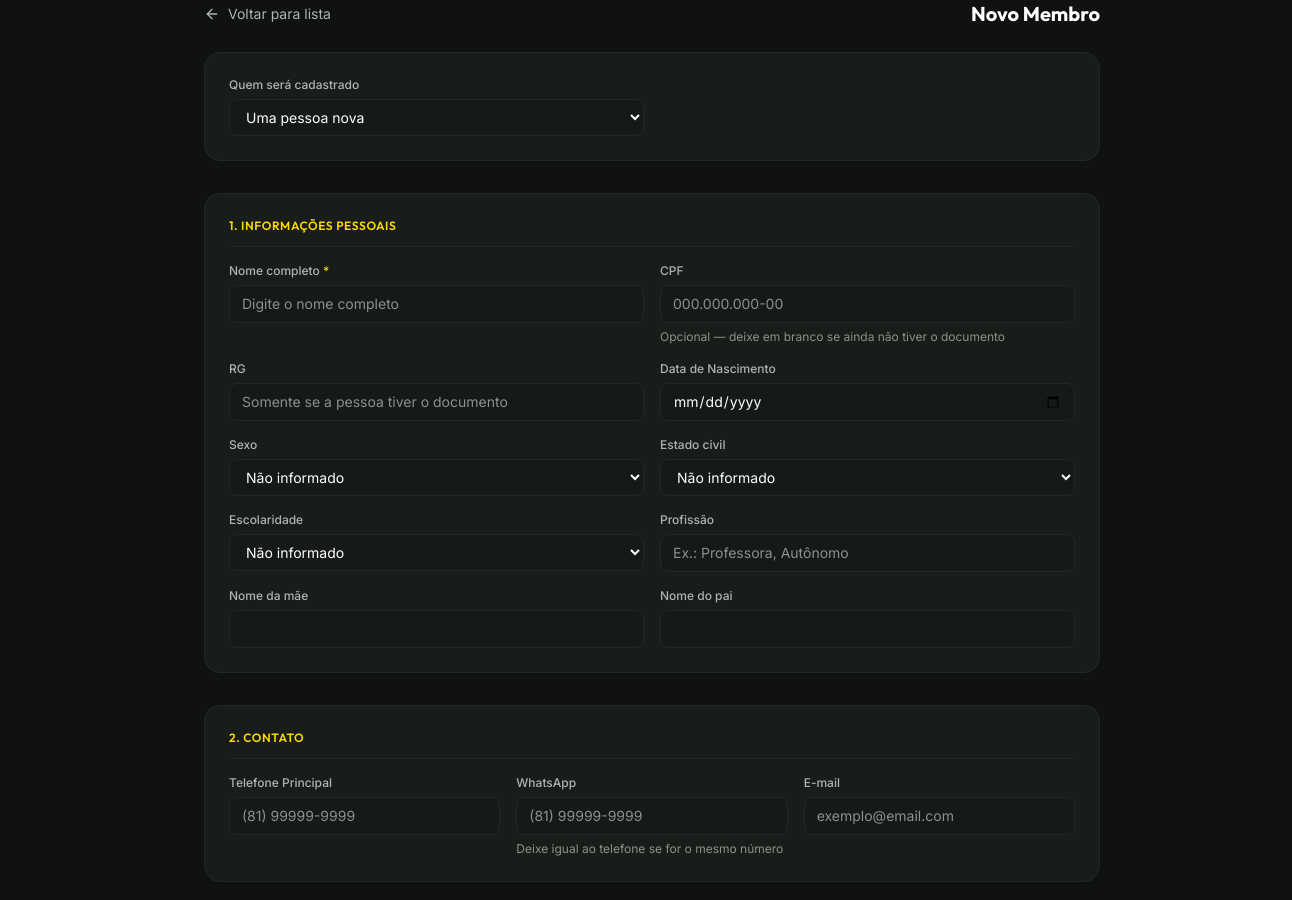
Test: MemberForm — pessoa já cadastrada › escolhe a pessoa, traz os dados dela e cria o membro sobre ela
The image size is (1292, 900).
Select "Alguém que já está no cadastro" in the dropdown labelled "Quem será cadastrado". click: coordinates (436, 118)
box: top-left (229, 99), bottom-right (644, 136)
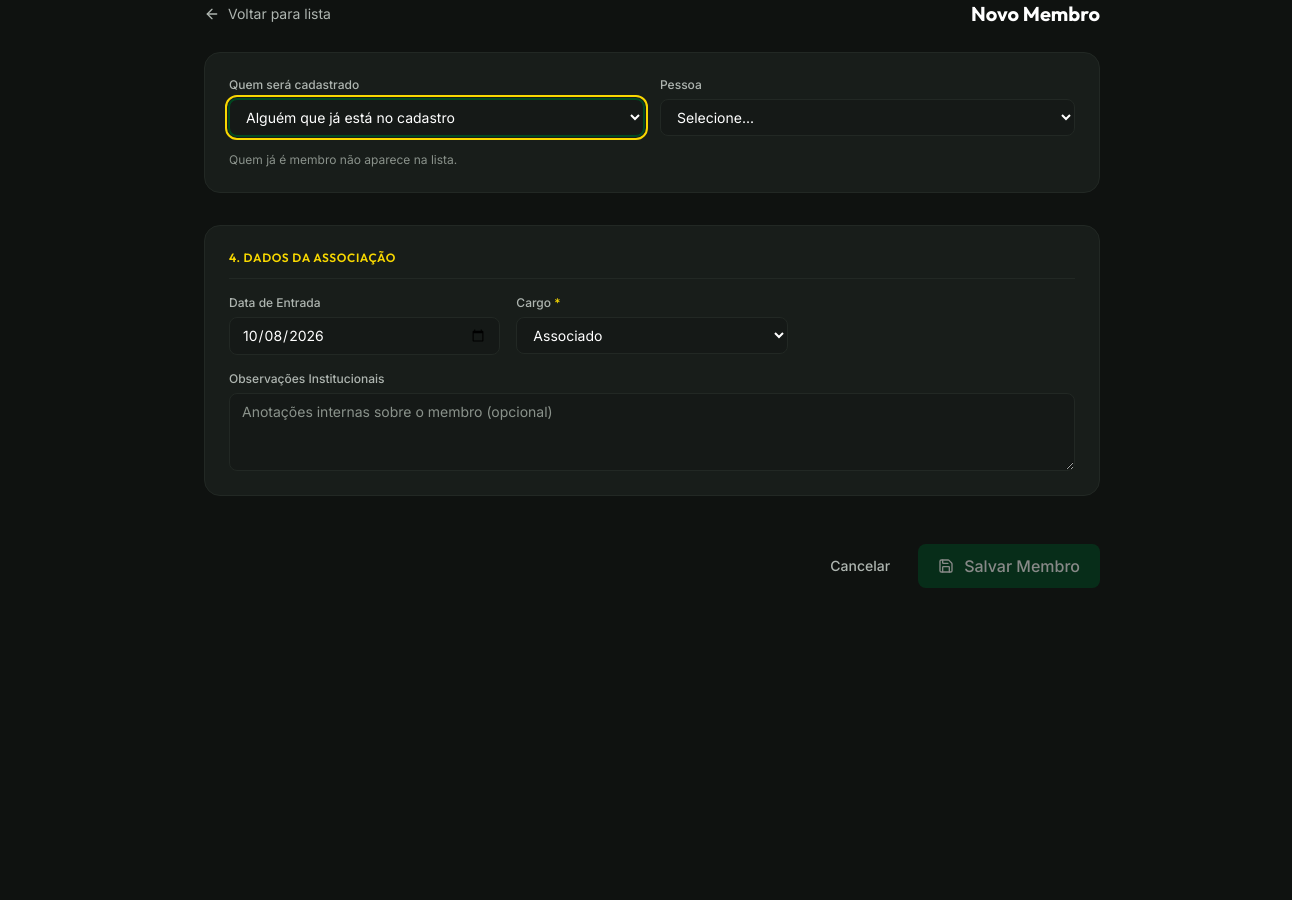
Result: the label labelled "Nome completo" is gone
Result: the button "Salvar Membro" is disabled at top-left (918, 544), bottom-right (1100, 588)
Select "Ana Lima" in the dropdown labelled "Pessoa". click: coordinates (868, 118)
box: top-left (660, 99), bottom-right (1075, 136)
(page scrolled)
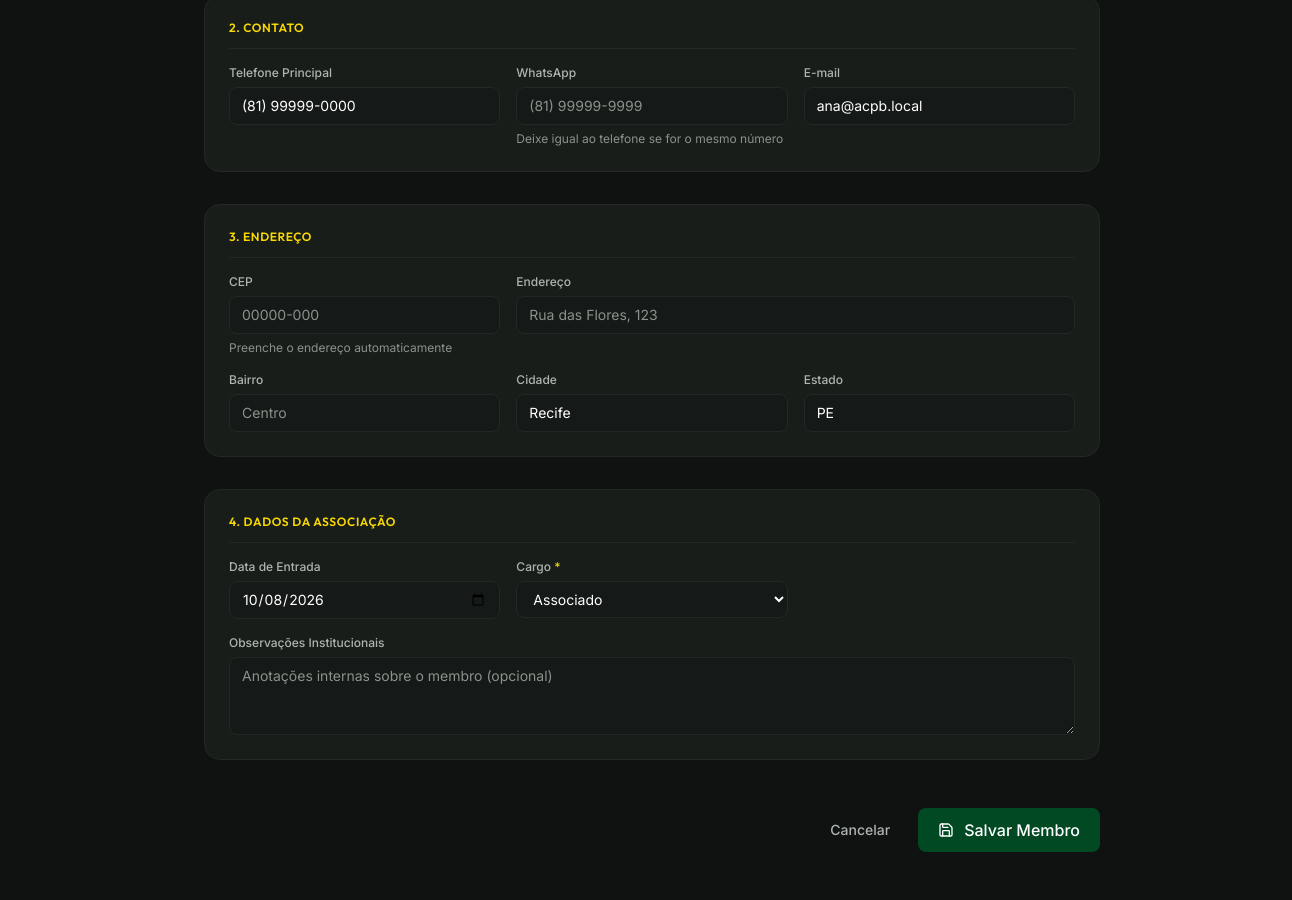
Click the button "Salvar Membro". click: coordinates (1009, 830)
box: top-left (918, 808), bottom-right (1100, 852)
(page scrolled)
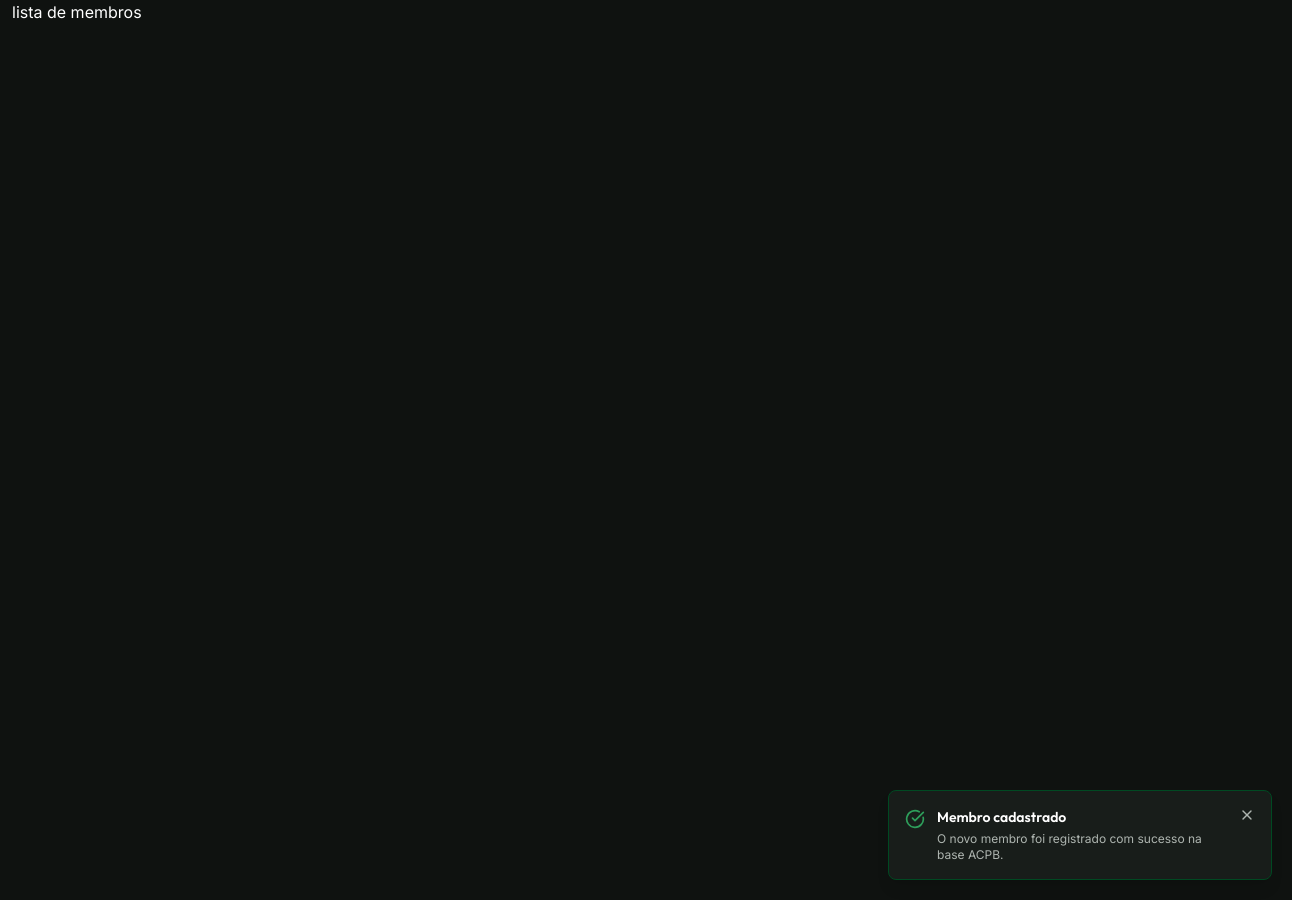
Result: the text "lista de membros" is shown at top-left (12, 2), bottom-right (142, 22)
